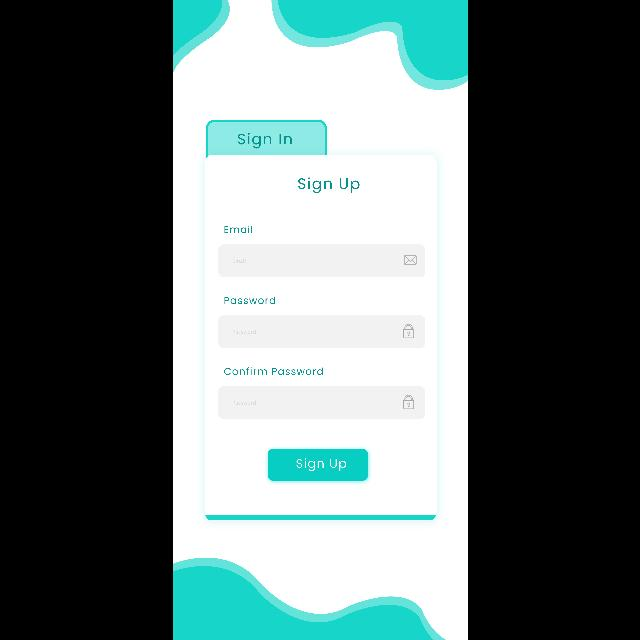icon: (402, 395, 413, 409), (402, 324, 413, 338), (404, 256, 416, 264)
input: (218, 245, 424, 278), (218, 386, 424, 419), (218, 316, 424, 348)
text: (297, 177, 359, 193), (224, 367, 322, 375), (223, 296, 274, 304), (224, 225, 252, 233), (232, 401, 254, 405), (232, 330, 254, 334), (232, 259, 244, 263)
textbutton: (206, 120, 326, 154), (267, 449, 367, 481)
